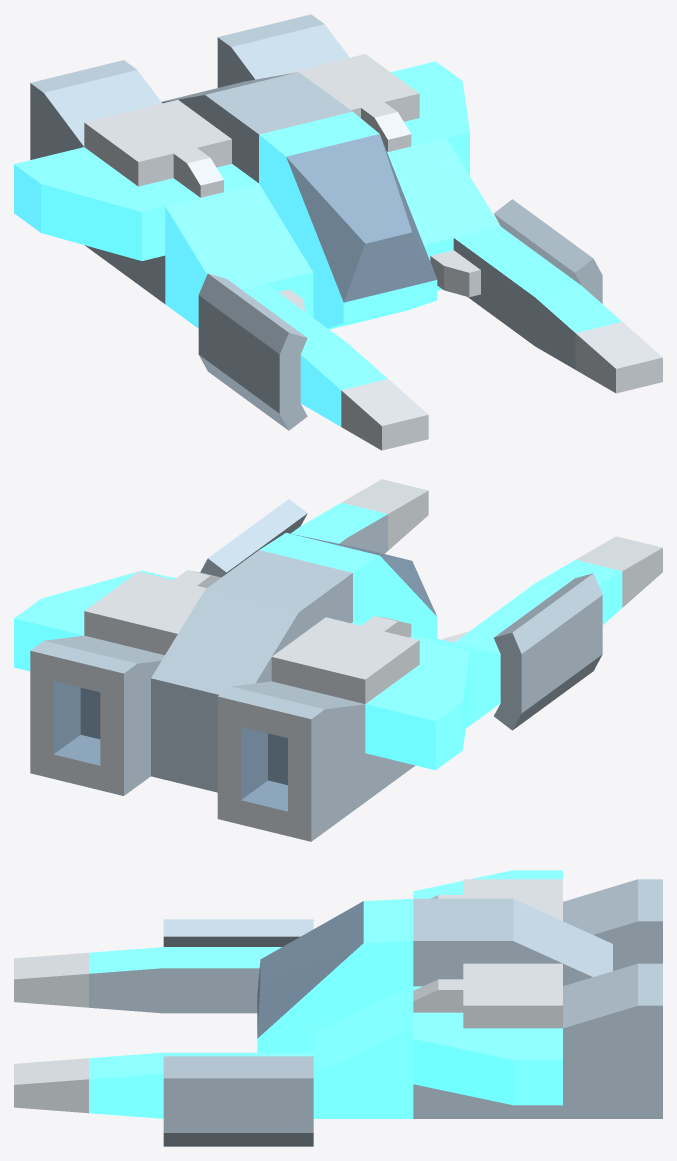
File: arctic.dae
3 renders of one model, top to bottom at view 1: azimuth 30°, elevation 25°; view 2: azimuth 150°, elevation 25°; view 3: azimuth 270°, elevation 25°, orthographic. The views are drawn at different scales.
Visible parts, largest first — view 1: craft_miner; view 2: craft_miner; view 3: craft_miner.
Boxes of the visible parts, left/top/right/bottom form: craft_miner: left=14, top=14, right=662, bottom=450; craft_miner: left=14, top=479, right=662, bottom=841; craft_miner: left=14, top=870, right=662, bottom=1146.
Bounding box in the file's own units: 1.8 × 0.7 × 2.6.
